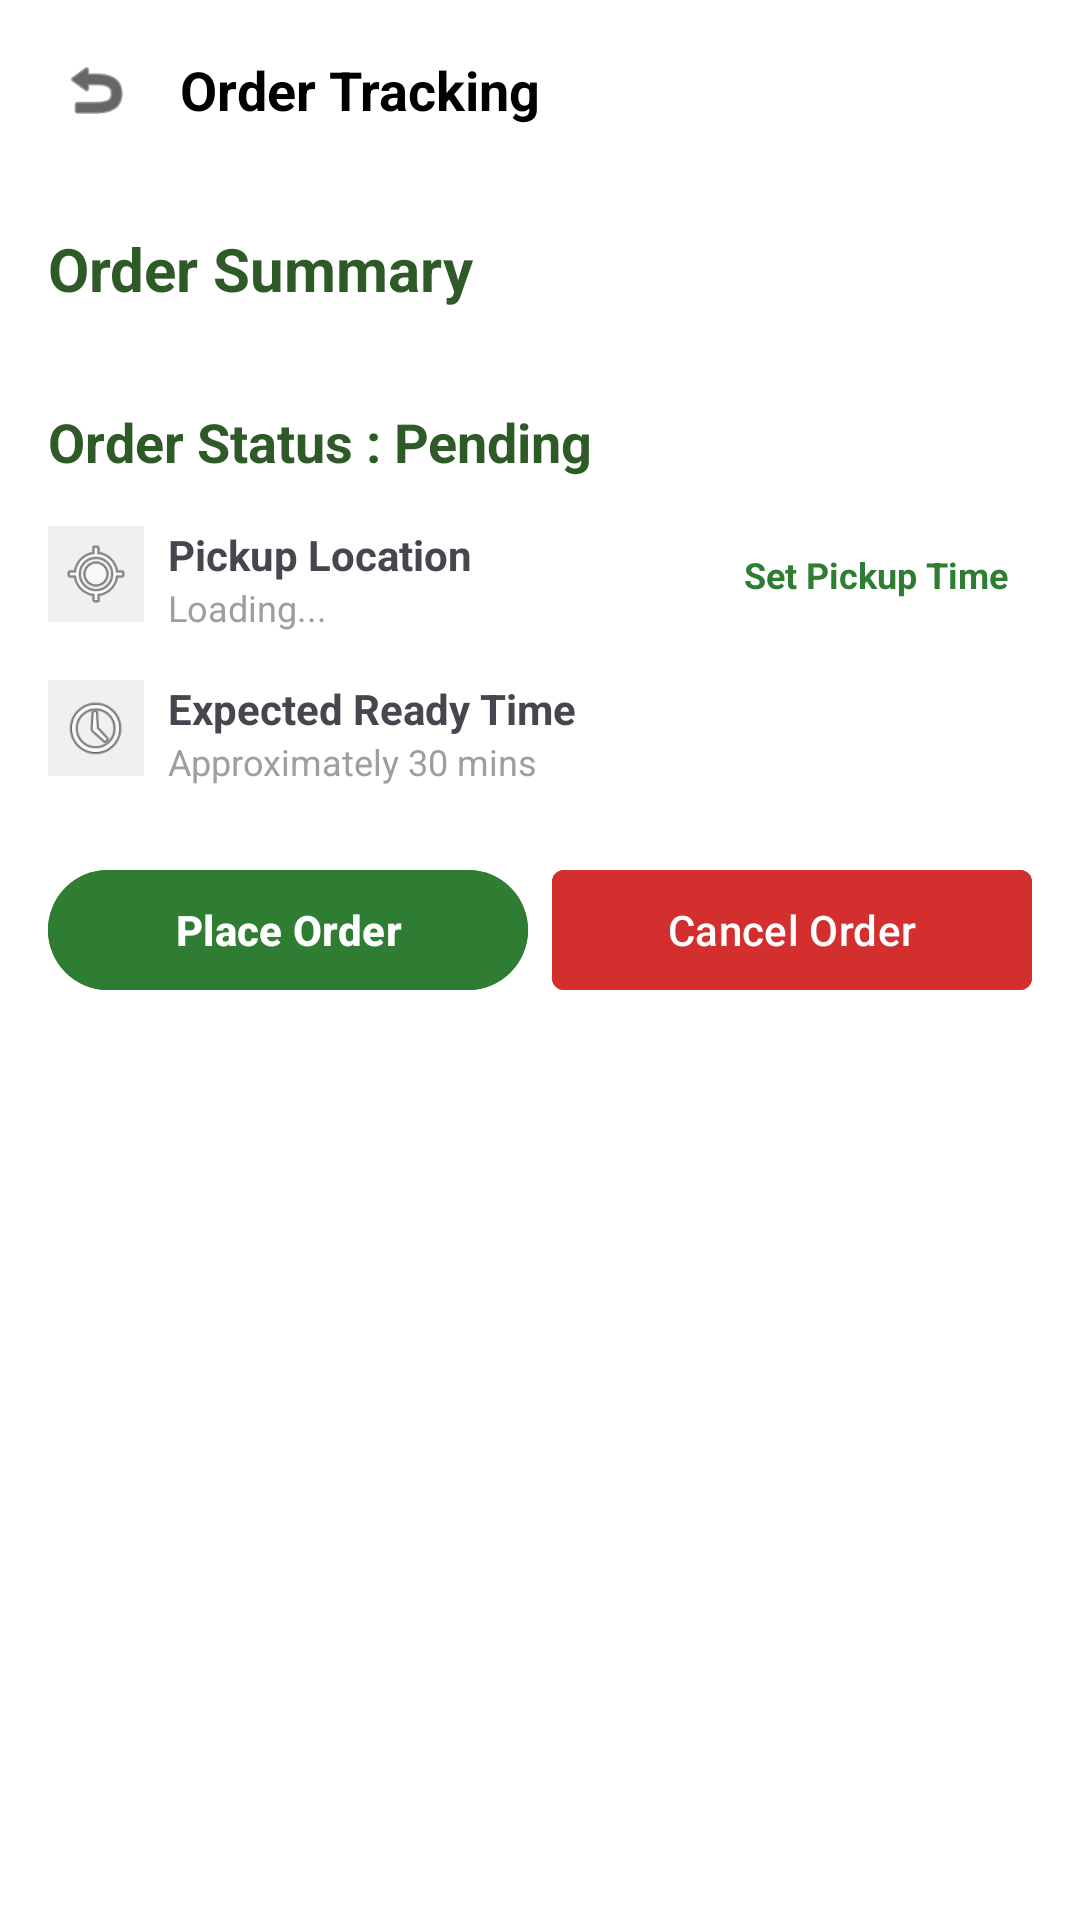

Screen size 1080x1920. Icon name, then its box in pixels as bbox=(x1, y1, x2, y2):
mylocation: bbox=(48, 526, 144, 622)
recent history: bbox=(48, 680, 144, 776)
revert: bbox=(71, 67, 123, 114)
